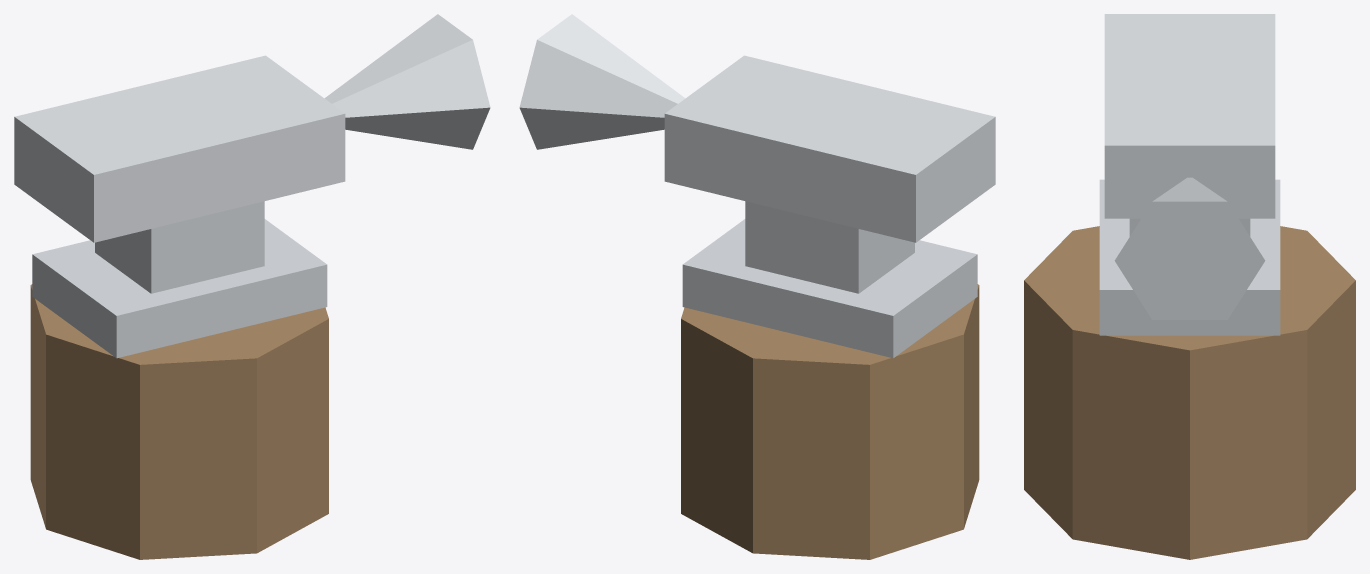
File: anvil.glb
3 renders of one model, left to right at view 1: azimuth 30°, elevation 25°; view 2: azimuth 150°, elevation 25°; view 3: azimuth 270°, elevation 25°, orthographic. The views are drawn at different scales.
Visible parts, largest first — view 1: stump, face, foot, horn, waist; view 2: stump, face, foot, horn, waist; view 3: stump, face, horn, foot.
Part boxes in pixels (x1,y1,x2,y2): stump: (30, 284, 328, 559); face: (14, 55, 345, 242); foot: (32, 219, 327, 358); horn: (324, 14, 490, 149); waist: (95, 201, 264, 293); stump: (681, 284, 979, 559); face: (664, 55, 995, 242); foot: (682, 219, 977, 358); horn: (519, 14, 685, 149); waist: (745, 201, 914, 293); stump: (1024, 226, 1355, 559); face: (1104, 14, 1275, 218); horn: (1114, 177, 1265, 319); foot: (1099, 179, 1280, 335).
Size of the model in its own units: 1.01 by 0.9499 by 0.66.
